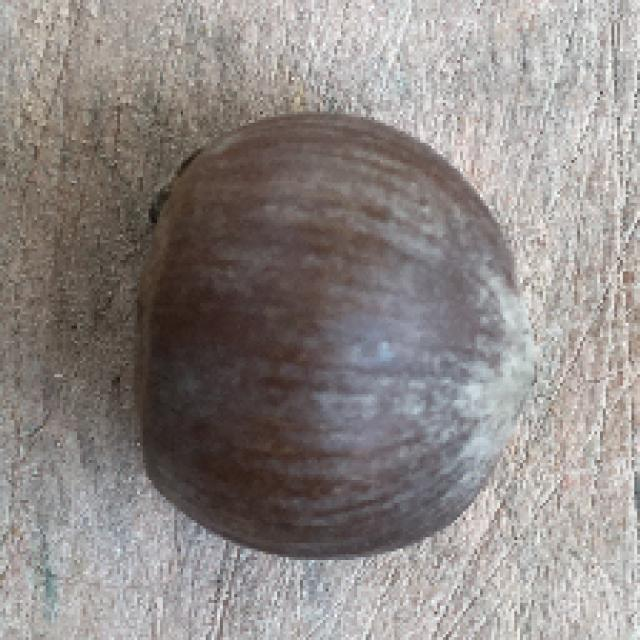damagedHazelnut: (125, 100, 535, 556)
